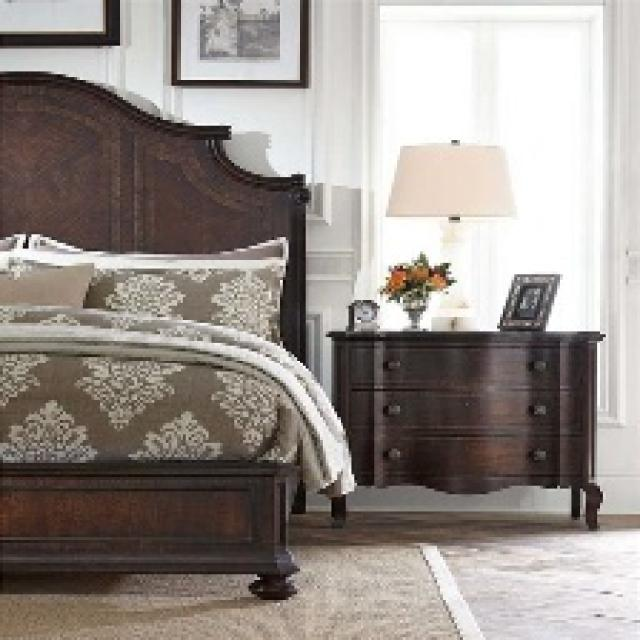Bed: (0, 68, 351, 600)
